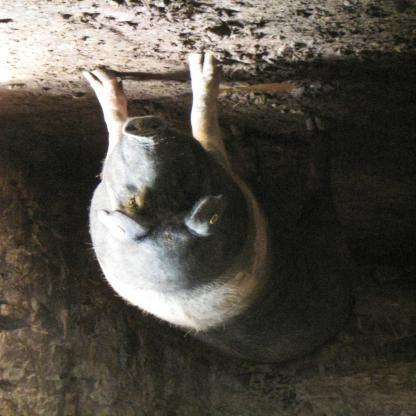boar: (79, 53, 360, 367)
